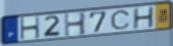2: (43, 14, 62, 38)
7: (88, 10, 108, 33)
C: (109, 10, 132, 31)
H: (63, 11, 88, 38), (132, 6, 155, 31), (19, 15, 41, 41)
